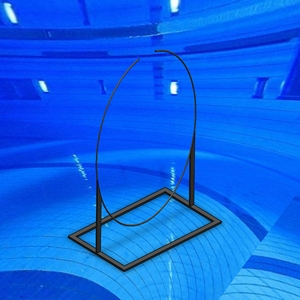circle: (68, 49, 223, 273)
